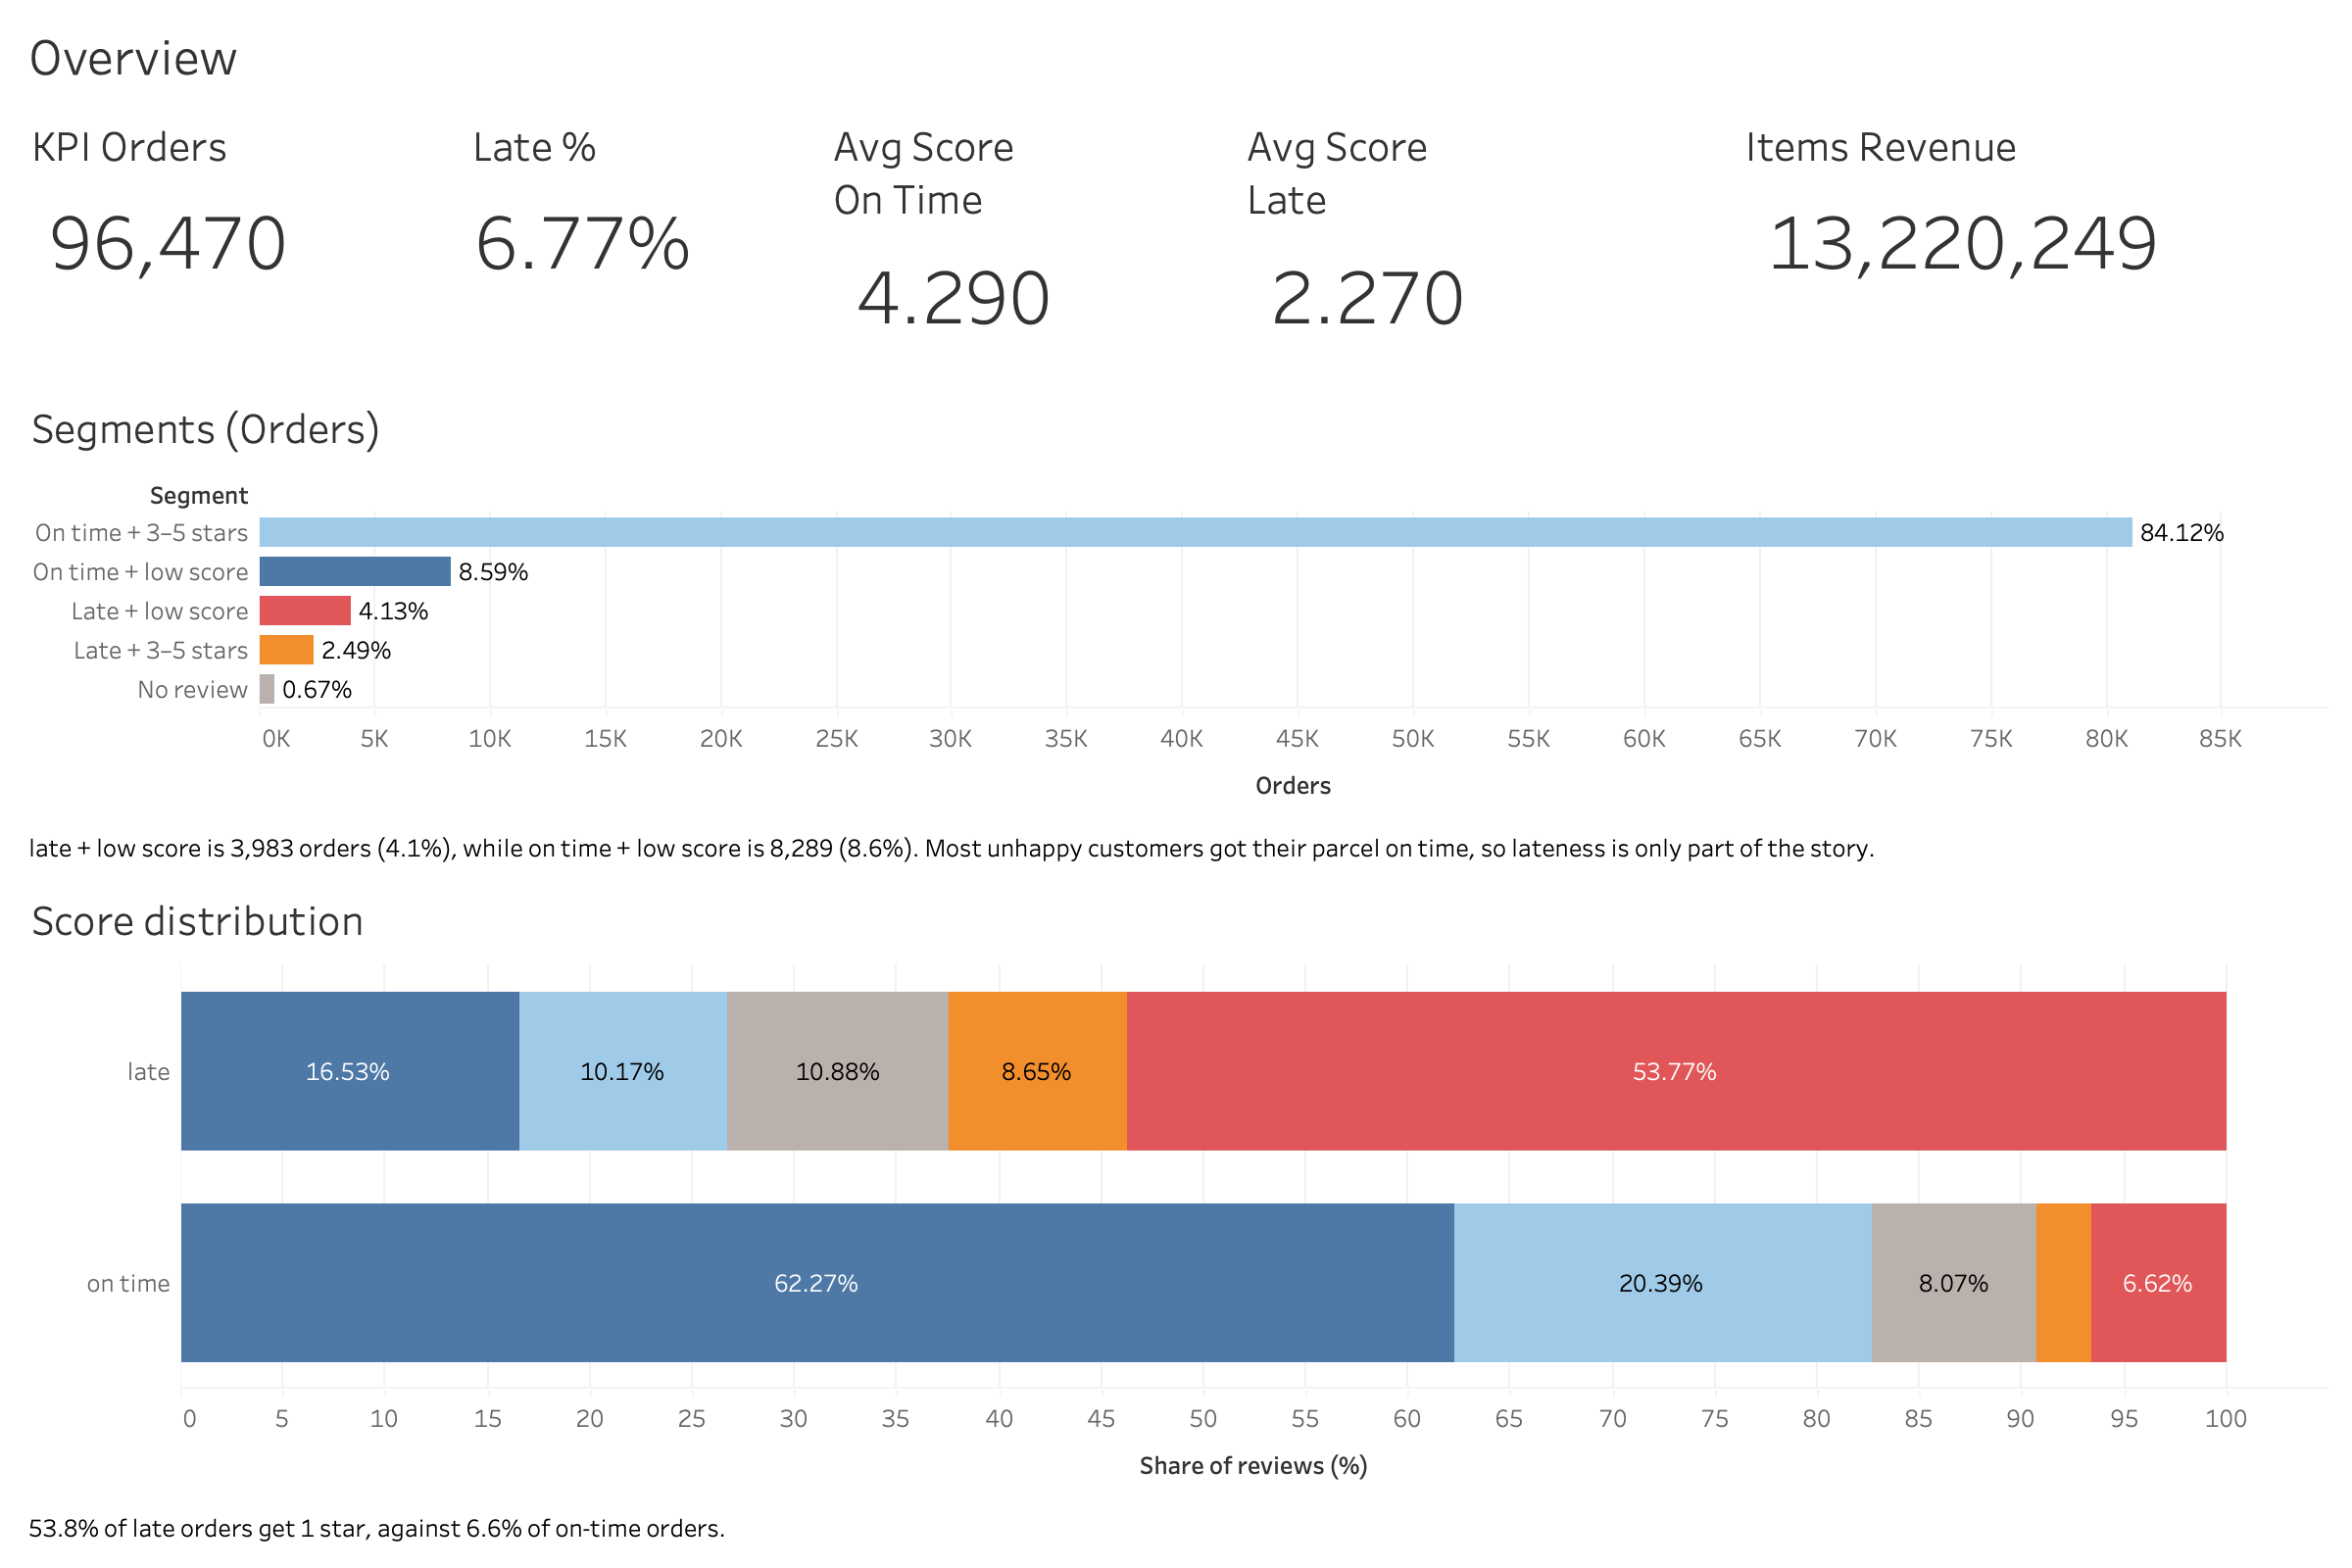

Layout of this report page (visuals, bound fields, positions):
{"tool":"tableau","page":{"name":"Overview","canvas":[1200,800],"ordinal":0},"visuals":[{"type":"title","box":[8,8,1184,42]},{"type":"worksheet","title":"KPI Orders","mark":"Automatic","box":[8,50,225,143.9]},{"type":"worksheet","title":"Late %","mark":"Automatic","box":[233,50,184,143.9]},{"type":"worksheet","title":"Avg Score On Time","mark":"Automatic","box":[417,50,211,143.9]},{"type":"worksheet","title":"Avg Score Late","mark":"Automatic","box":[628,50,254,143.9]},{"type":"worksheet","title":"Items Revenue","mark":"Automatic","box":[882,50,310,143.9]},{"type":"worksheet","title":"Segments (Orders)","mark":"Automatic","rows":["segment"],"cols":["orders"],"box":[8,193.9,1184,226]},{"type":"text","box":[8,419.9,1184,25]},{"type":"worksheet","title":"Score distribution","mark":"Automatic","rows":["delivery_status"],"cols":["pct_within_status"],"box":[8,444.9,1184,322.1]},{"type":"text","box":[8,767,1184,25]}]}

Visuals, with their boxes in screenshot pixels (x1, y1, x2, y2), scaled from the page's 1200x800 canvas onto the 2352x1568 screenshot:
title: (16,16,2336,98)
"KPI Orders" worksheet: (16,98,457,380)
"Late %" worksheet: (457,98,817,380)
"Avg Score On Time" worksheet: (817,98,1231,380)
"Avg Score Late" worksheet: (1231,98,1729,380)
"Items Revenue" worksheet: (1729,98,2336,380)
"Segments (Orders)" worksheet: (16,380,2336,823)
text: (16,823,2336,872)
"Score distribution" worksheet: (16,872,2336,1503)
text: (16,1503,2336,1552)
